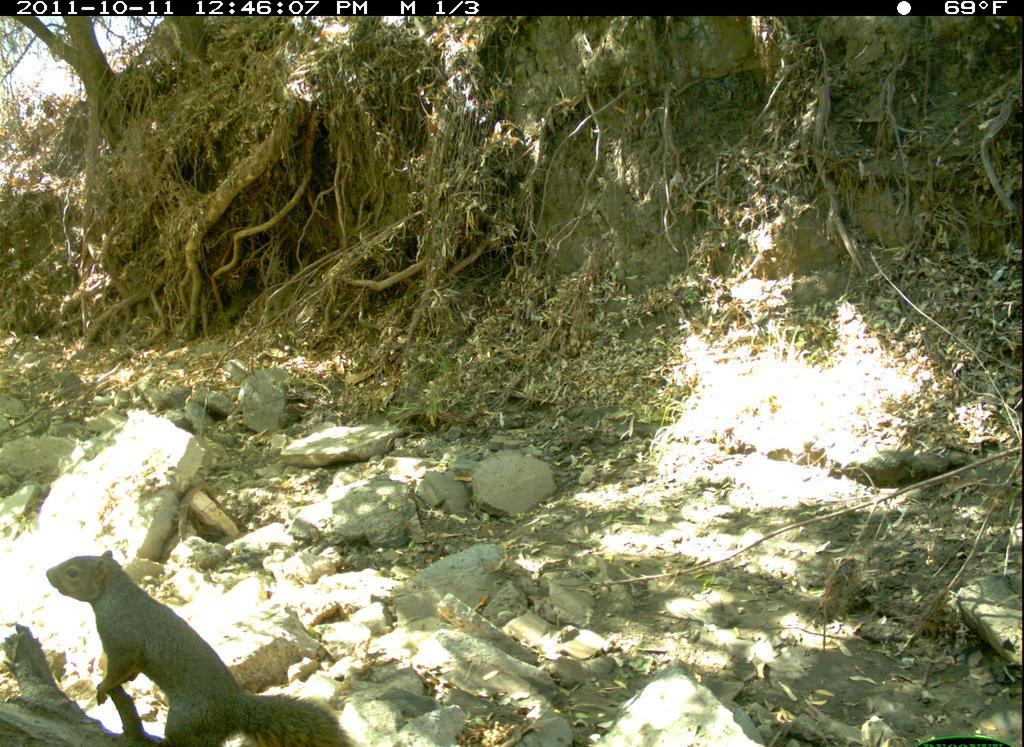squirrel: (41, 548, 353, 739)
